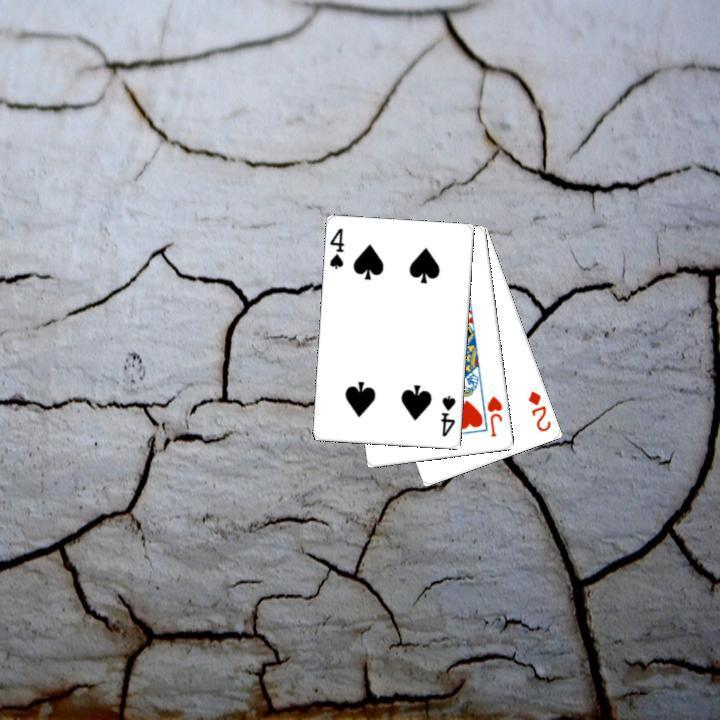2: (524, 386, 554, 434)
4: (437, 391, 458, 439), (325, 224, 346, 271)
J: (483, 392, 505, 439)
